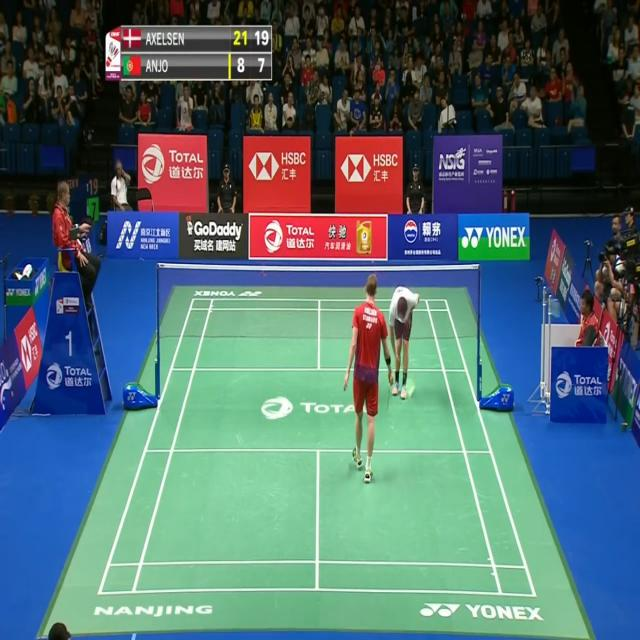Player1: (342, 271, 394, 490)
Player2: (388, 281, 421, 400)
